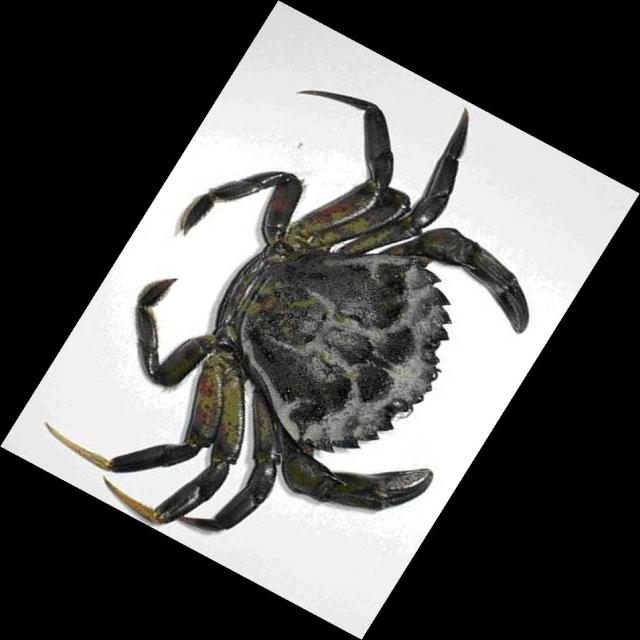European Green crab: (47, 91, 529, 531)
